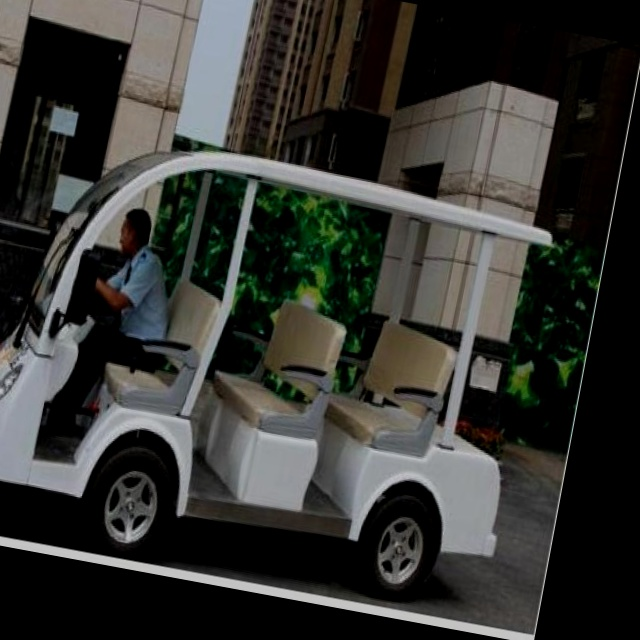Sin_Casco_Mascarrilla: (114, 205, 153, 262)
